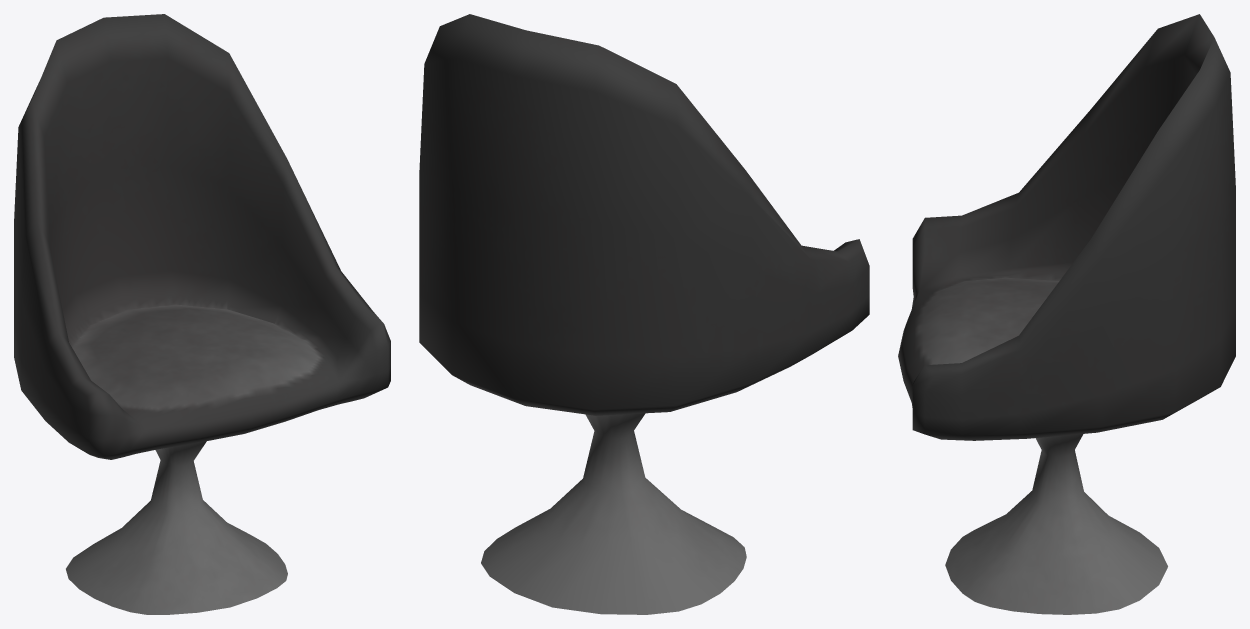
The model's file is study chair.fbx.
The picture shows the model from 3 angles, left to right: view 1: azimuth 30°, elevation 25°; view 2: azimuth 150°, elevation 25°; view 3: azimuth 270°, elevation 25°; orthographic projection. The views are drawn at different scales.
Parts seen in each view (by area): view 1: polySurface552; view 2: polySurface552; view 3: polySurface552.
Boxes of the visible parts, bbox=[...] form: polySurface552: bbox=[14, 14, 390, 614]; polySurface552: bbox=[419, 14, 869, 614]; polySurface552: bbox=[898, 14, 1235, 614].
Size of the model in its own units: 0.6638 by 1.03 by 0.5952.
Materials: 1 (1 with a texture image).
